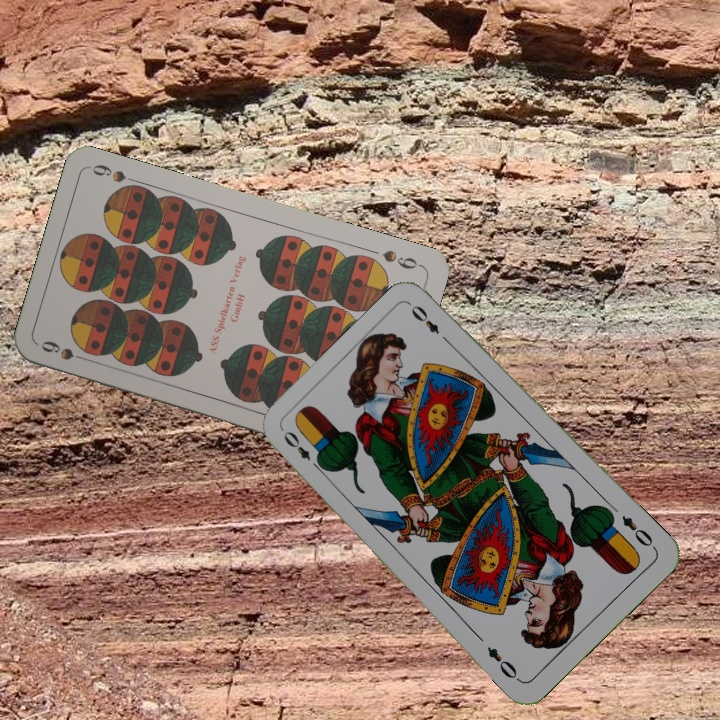EO: (279, 426, 325, 474), (617, 511, 659, 552)
S9: (37, 336, 94, 365), (378, 246, 425, 272)
